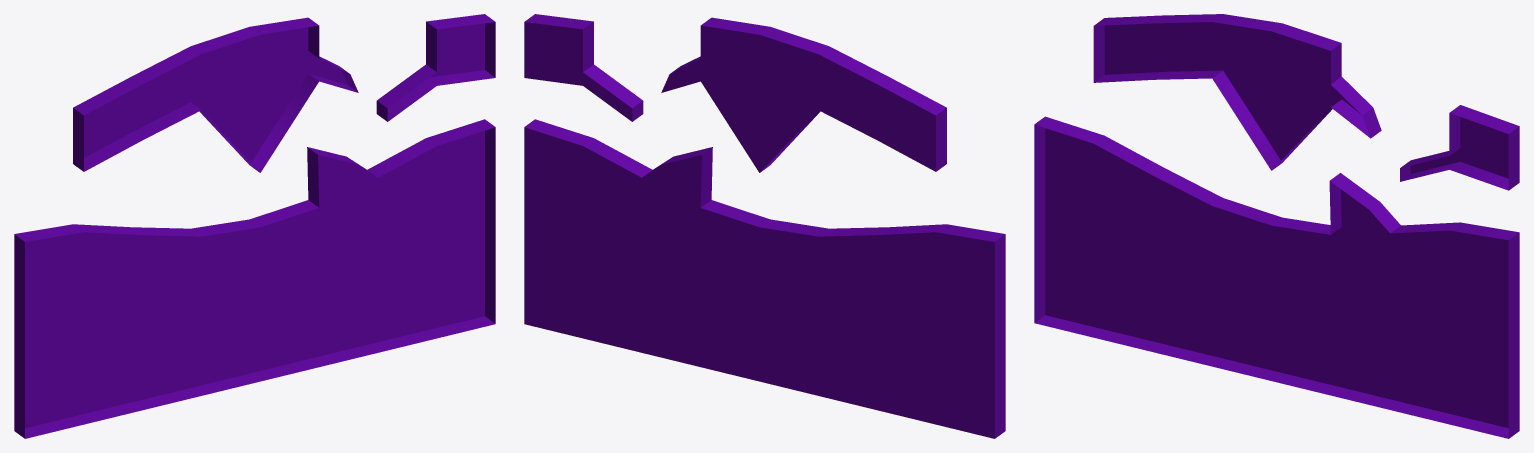
Rendered from sugar_cave_low_res_2.fbx.
3 views of the same model, side by side, from view 1: azimuth 30°, elevation 25°; view 2: azimuth 150°, elevation 25°; view 3: azimuth 330°, elevation 25° (orthographic).
Visible parts, largest first — view 1: Sugar_Cave_Terrain, ground1; view 2: Sugar_Cave_Terrain, ground1; view 3: Sugar_Cave_Terrain, ground1.
Boxes of the visible parts, x1,y1,x2,y2 form: Sugar_Cave_Terrain: [14, 119, 495, 438]; ground1: [73, 14, 495, 172]; Sugar_Cave_Terrain: [524, 119, 1005, 438]; ground1: [524, 14, 946, 172]; Sugar_Cave_Terrain: [1034, 116, 1519, 438]; ground1: [1093, 14, 1519, 190].
Size of the model in its own units: 25 by 17.61 by 1.
